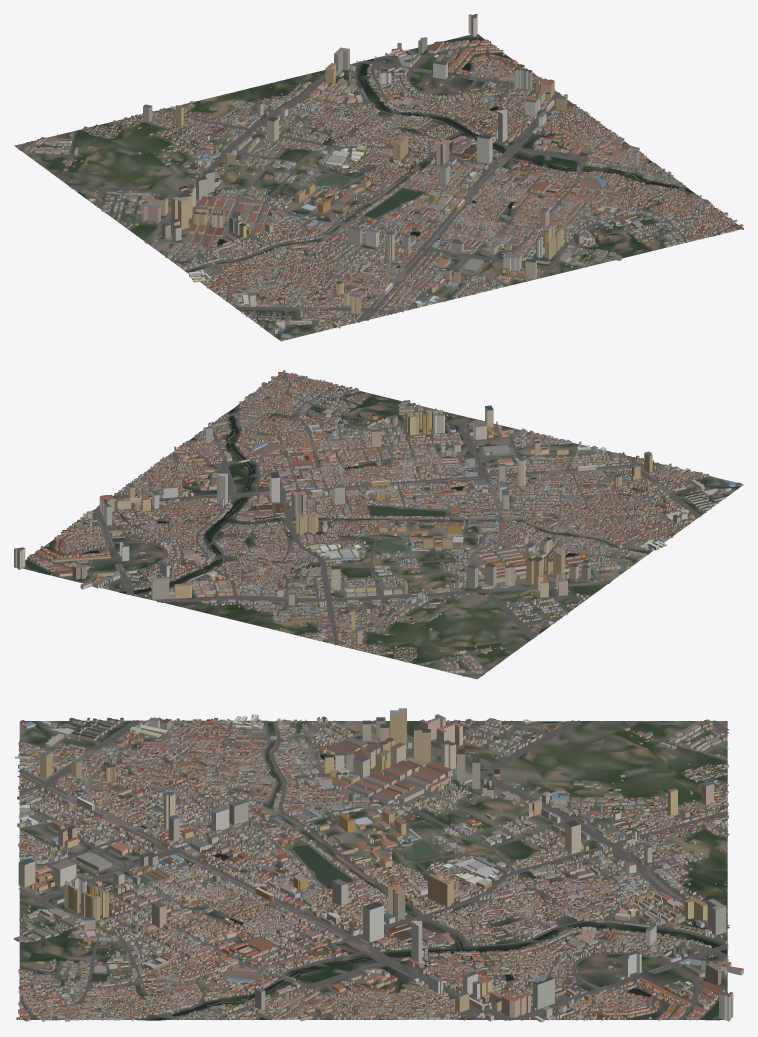
3 views of the same model, one above another, from view 1: azimuth 30°, elevation 25°; view 2: azimuth 150°, elevation 25°; view 3: azimuth 270°, elevation 25° (orthographic). The views are drawn at different scales.
Visible parts, largest first — view 1: buildings, ground, roads, water; view 2: buildings, ground, roads, water; view 3: buildings, ground, roads, water.
Part boxes in pixels (<box>): buildings: <box>23,14,743,340</box>; ground: <box>14,34,738,341</box>; roads: <box>18,41,740,322</box>; water: <box>77,37,693,271</box>; buildings: <box>14,370,742,673</box>; ground: <box>22,373,743,679</box>; roads: <box>27,372,701,676</box>; water: <box>25,408,648,633</box>; buildings: <box>14,708,743,1022</box>; ground: <box>19,720,727,1020</box>; roads: <box>17,720,729,1020</box>; water: <box>140,721,727,1020</box>.
Bounding box in the file's own units: 2857 × 174 × 2891.
